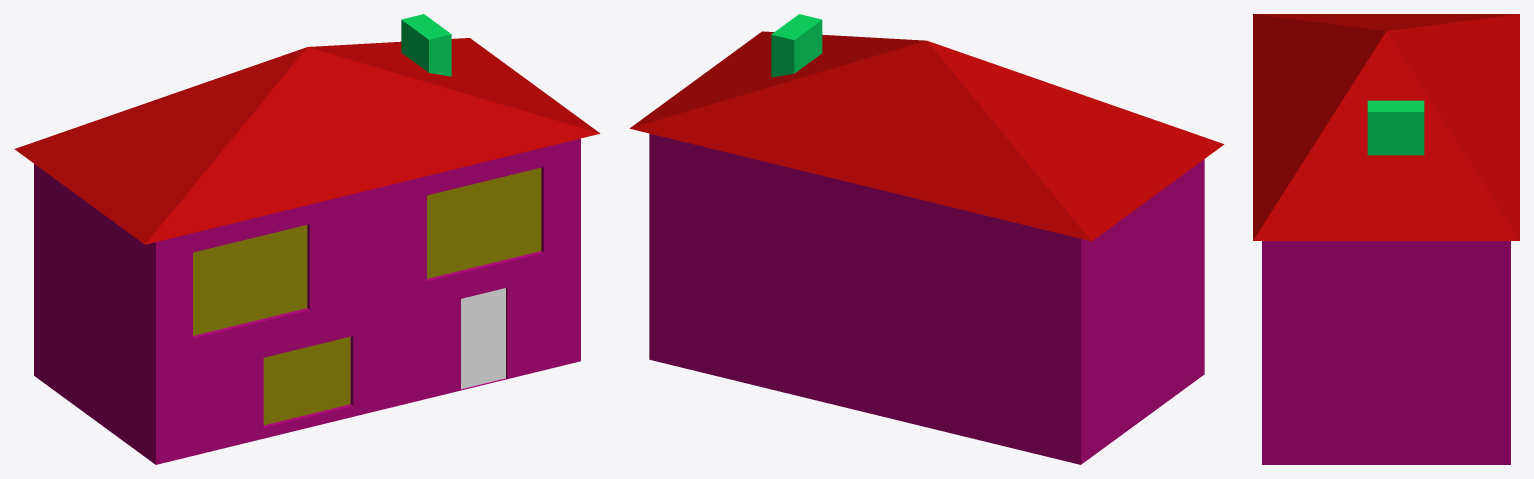
File: House_MES.FBX
The picture shows the model from 3 angles, left to right: view 1: azimuth 30°, elevation 25°; view 2: azimuth 150°, elevation 25°; view 3: azimuth 270°, elevation 25°; orthographic projection. The views are drawn at different scales.
Parts seen in each view (by area): view 1: House; view 2: House; view 3: House.
Part boxes in pixels (x1=…): House: x1=14, y1=14, x2=600, y2=464; House: x1=629, y1=14, x2=1224, y2=464; House: x1=1253, y1=14, x2=1519, y2=464.
Size of the model in its own units: 857 by 578 by 426.
